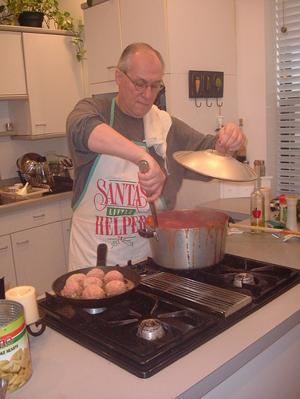person: (66, 43, 249, 281)
